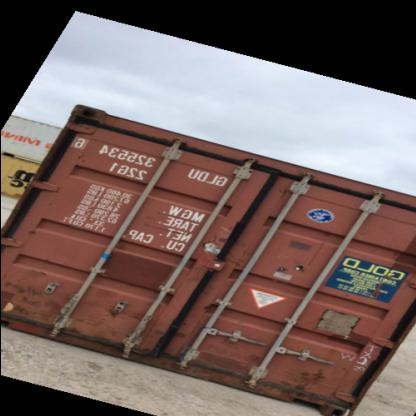Damage: (3, 266, 66, 321), (116, 300, 166, 348), (287, 359, 337, 391), (210, 214, 240, 262), (366, 265, 396, 307)
